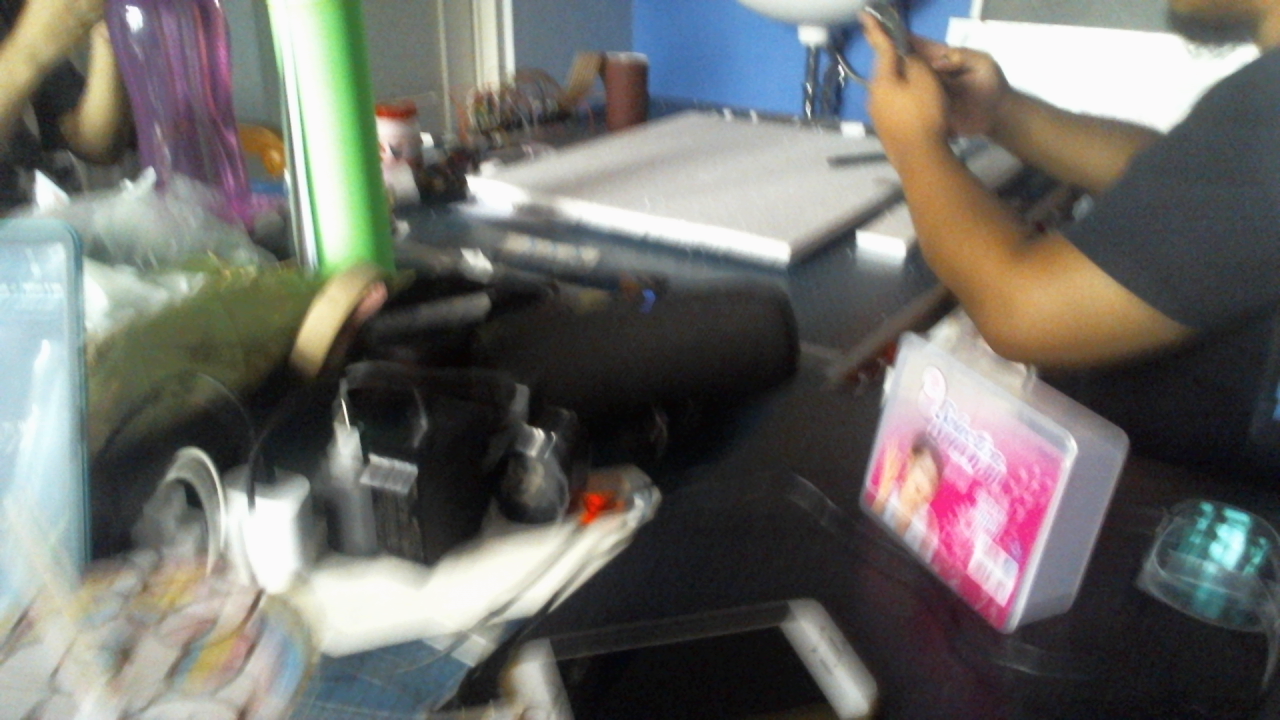Selection: (841, 310, 1142, 651)
